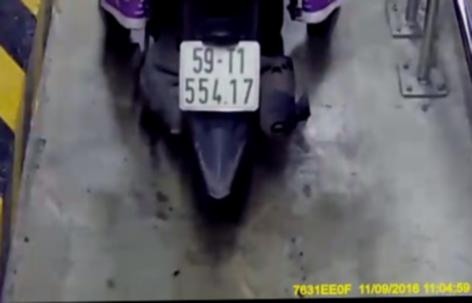License_Plate: (173, 35, 267, 118)
